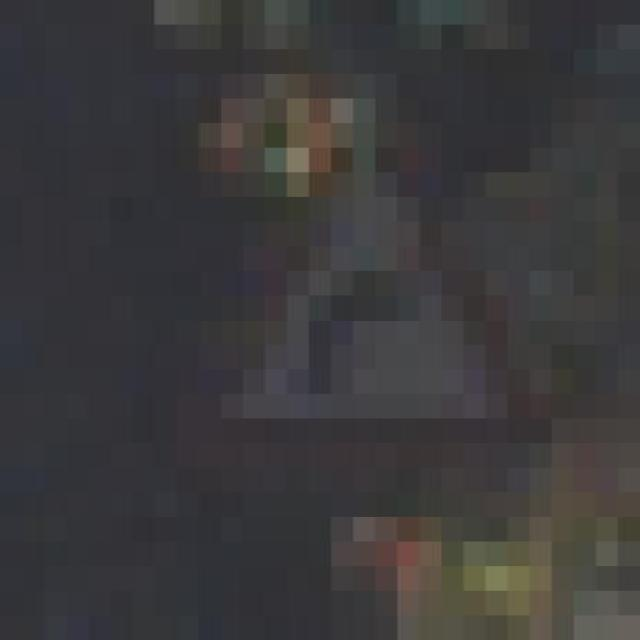Dangerous Rright Curve Ahead: (132, 72, 574, 491)
